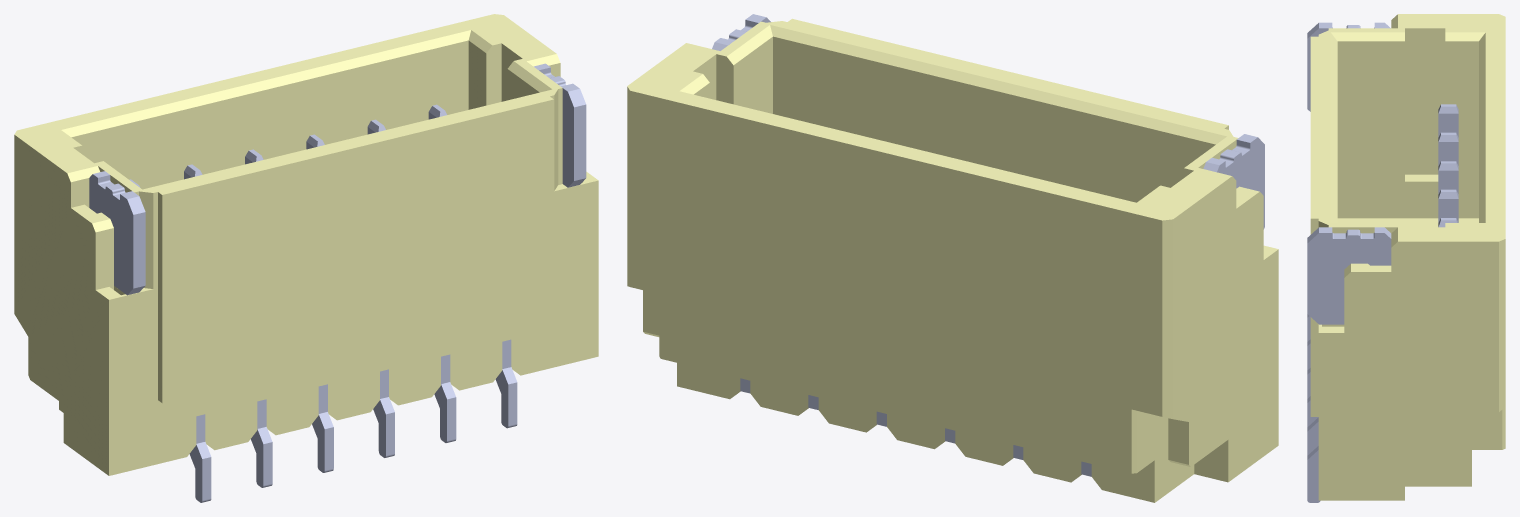
File: sfe-jst_smd_1.0mm-6.glb
3 views of the same model, side by side, from view 1: azimuth 30°, elevation 25°; view 2: azimuth 150°, elevation 25°; view 3: azimuth 270°, elevation 25° (orthographic). The views are drawn at different scales.
Visible parts, largest first — view 1: 1_1_0.5_0, 0.5833333333333334_0.6666666666666666_0.8333333333333334_0; view 2: 1_1_0.5_0, 0.5833333333333334_0.6666666666666666_0.8333333333333334_0; view 3: 1_1_0.5_0, 0.5833333333333334_0.6666666666666666_0.8333333333333334_0.
Part boxes in pixels (box(x1,y1,x2,y2)): 1_1_0.5_0: box(14, 14, 598, 475); 0.5833333333333334_0.6666666666666666_0.8333333333333334_0: box(89, 63, 586, 502); 1_1_0.5_0: box(627, 18, 1278, 502); 0.5833333333333334_0.6666666666666666_0.8333333333333334_0: box(712, 14, 1264, 476); 1_1_0.5_0: box(1310, 14, 1505, 500); 0.5833333333333334_0.6666666666666666_0.8333333333333334_0: box(1307, 22, 1458, 502).
Size of the model in its own units: 0.8 by 0.495 by 0.295.
